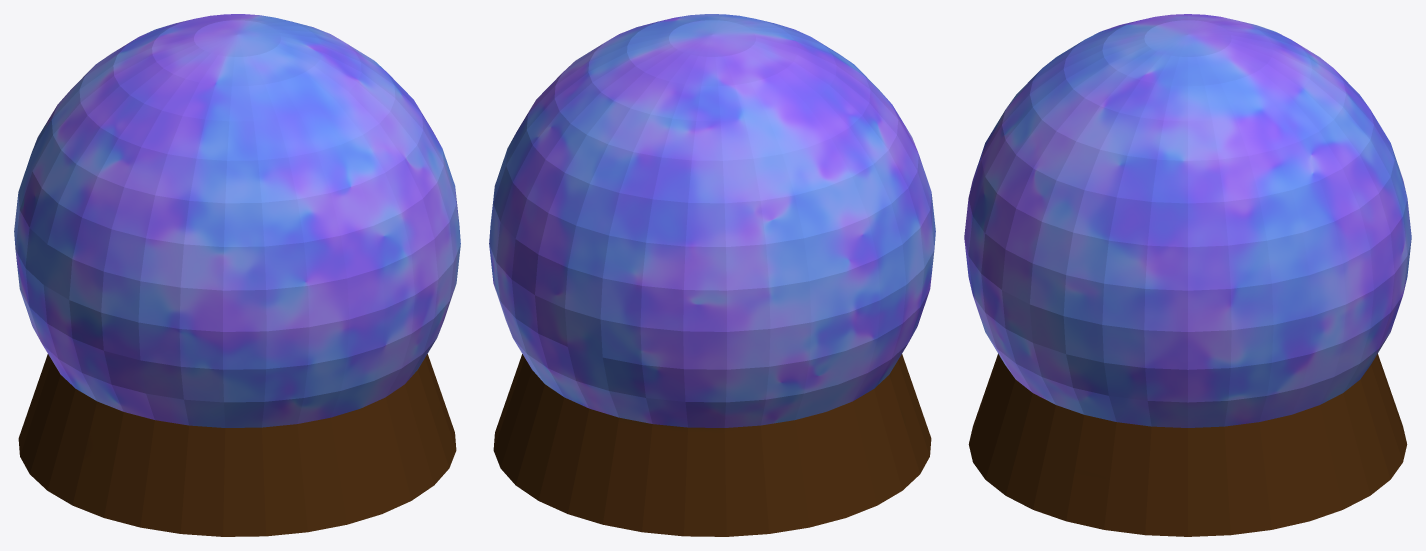
File: snowball.fbx
3 renders of one model, left to right at view 1: azimuth 30°, elevation 25°; view 2: azimuth 150°, elevation 25°; view 3: azimuth 270°, elevation 25°, orthographic.
Visible parts, largest first — view 1: Boule, Socle; view 2: Boule, Socle; view 3: Boule, Socle.
Boxes of the visible parts, x1,y1,x2,y2 form: Boule: (14,14,460,427); Socle: (18,354,456,536); Boule: (489,14,935,427); Socle: (493,354,931,536); Boule: (964,14,1411,427); Socle: (968,353,1407,536).
Bounding box in the file's own units: 6 × 6.06 × 6.
Materials: 2 (2 with a texture image).
